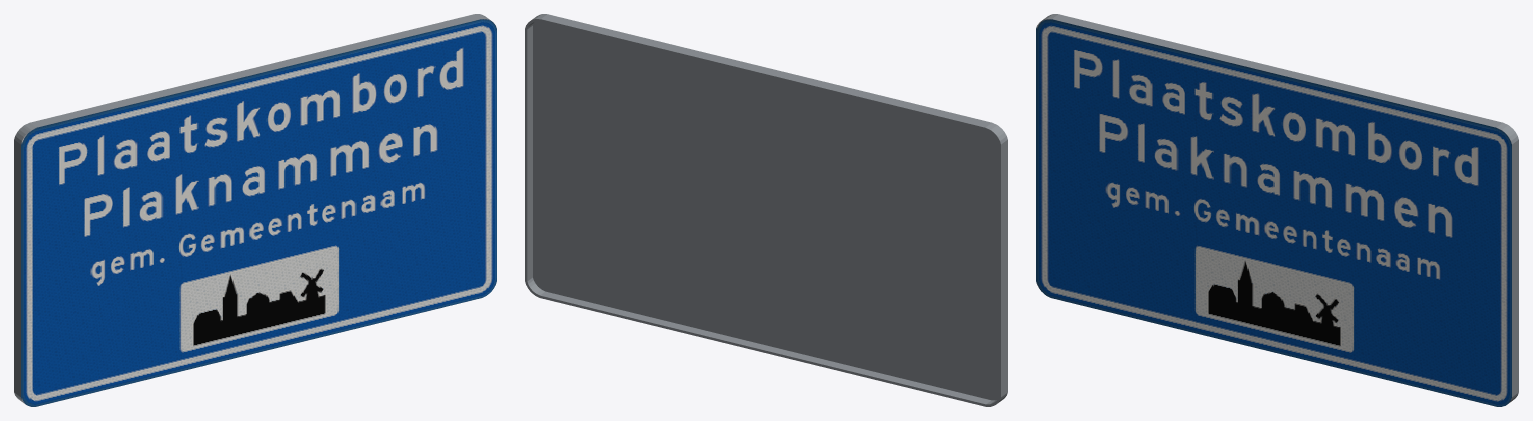
The picture shows the model from 3 angles, left to right: view 1: azimuth 30°, elevation 25°; view 2: azimuth 150°, elevation 25°; view 3: azimuth 330°, elevation 25°; orthographic projection.
Visible parts, largest first — view 1: cat_e14d3b3c356e808b; view 2: cat_e14d3b3c356e808b; view 3: cat_e14d3b3c356e808b.
Part boxes in pixels (x1=…): cat_e14d3b3c356e808b: x1=14, y1=14, x2=496, y2=406; cat_e14d3b3c356e808b: x1=525, y1=14, x2=1007, y2=406; cat_e14d3b3c356e808b: x1=1036, y1=14, x2=1518, y2=406.
Bounding box in the file's own units: 0.6 × 0.015 × 0.3361.
2 materials, 1 textured.
